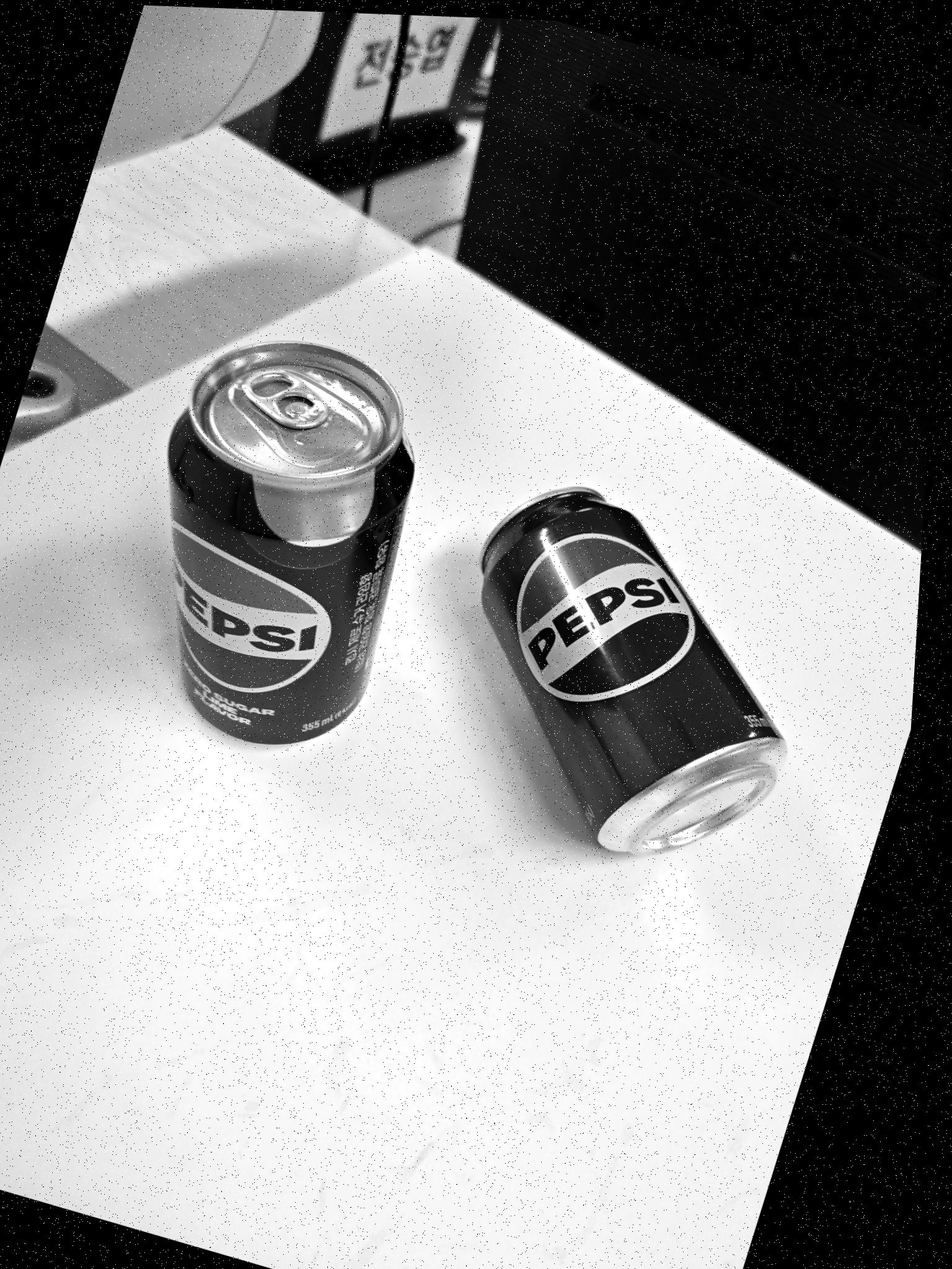can_pepsi: (477, 485, 781, 851)
can_pepsi_zero: (169, 334, 421, 742)
